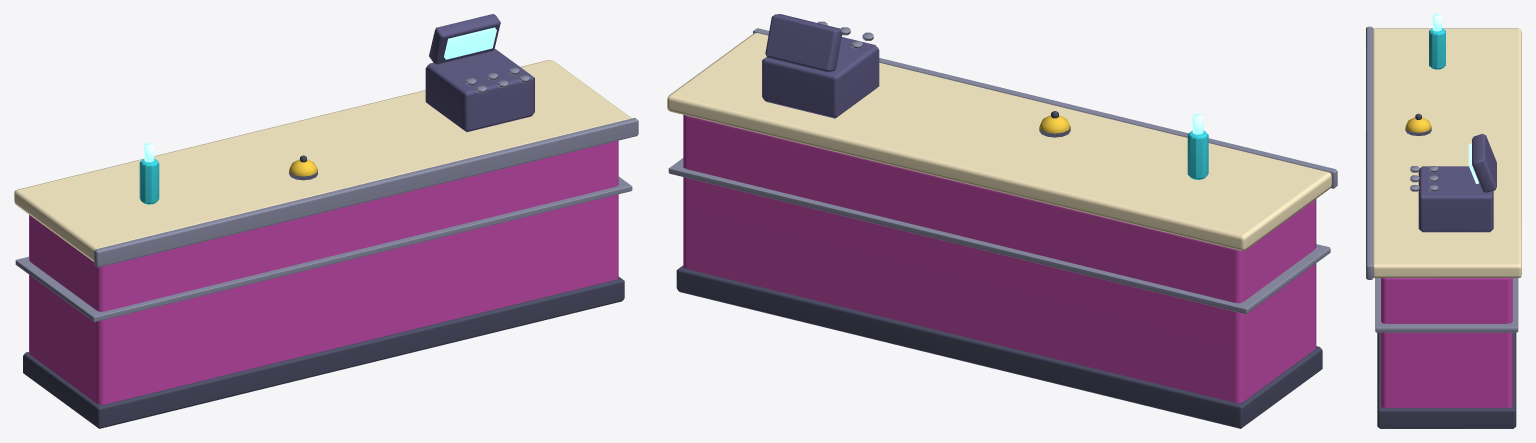
Rendered from counter.glb.
3 renders of one model, left to right at view 1: azimuth 30°, elevation 25°; view 2: azimuth 150°, elevation 25°; view 3: azimuth 270°, elevation 25°, orthographic. The views are drawn at different scales.
Visible parts, largest first — view 1: Counter.001; view 2: Counter.001; view 3: Counter.001.
Boxes of the visible parts, left/top/right/bottom form: Counter.001: left=14, top=14, right=638, bottom=428; Counter.001: left=667, top=14, right=1337, bottom=428; Counter.001: left=1366, top=14, right=1521, bottom=428.
Size of the model in its own units: 3.02 by 1.4 by 0.83.
